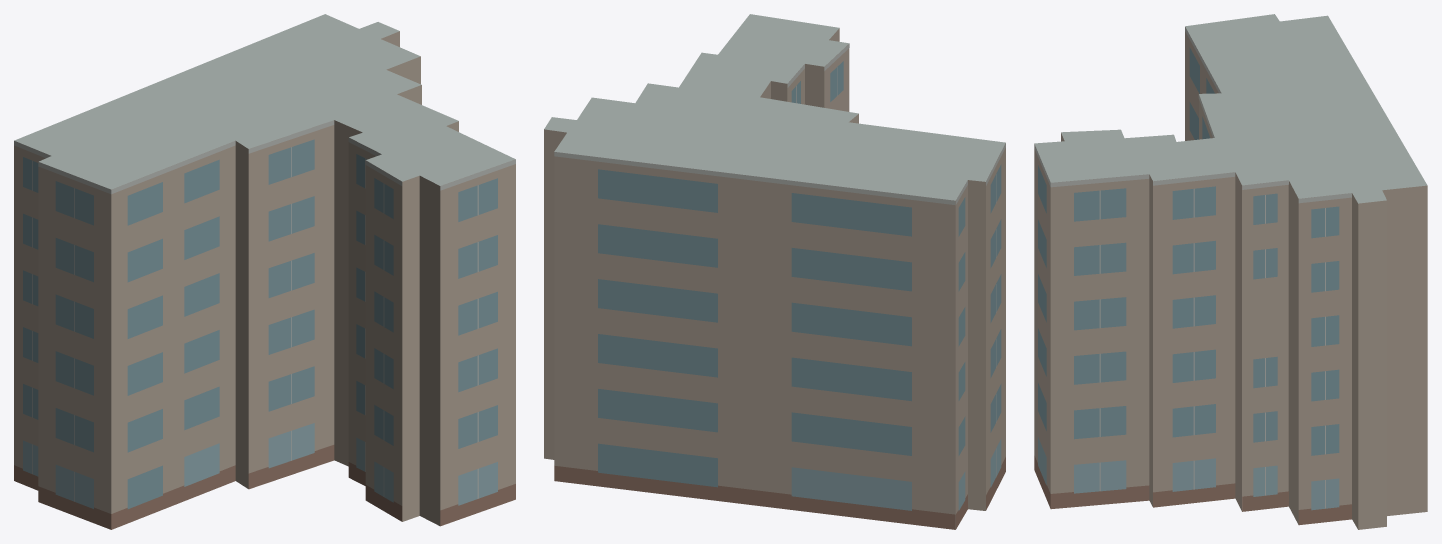
Rendered from survey-upis-32604559.glb.
3 renders of one model, left to right at view 1: azimuth 30°, elevation 25°; view 2: azimuth 150°, elevation 25°; view 3: azimuth 270°, elevation 25°, orthographic. The views are drawn at different scales.
Parts seen in each view (by area): view 1: survey-upis-32604559.tmp; view 2: survey-upis-32604559.tmp; view 3: survey-upis-32604559.tmp.
Part boxes in pixels (<box>): survey-upis-32604559.tmp: <box>14,14,515,529</box>; survey-upis-32604559.tmp: <box>544,14,1005,529</box>; survey-upis-32604559.tmp: <box>1034,14,1427,529</box>.
Size of the model in its own units: 21.93 by 17.6 by 19.23.
